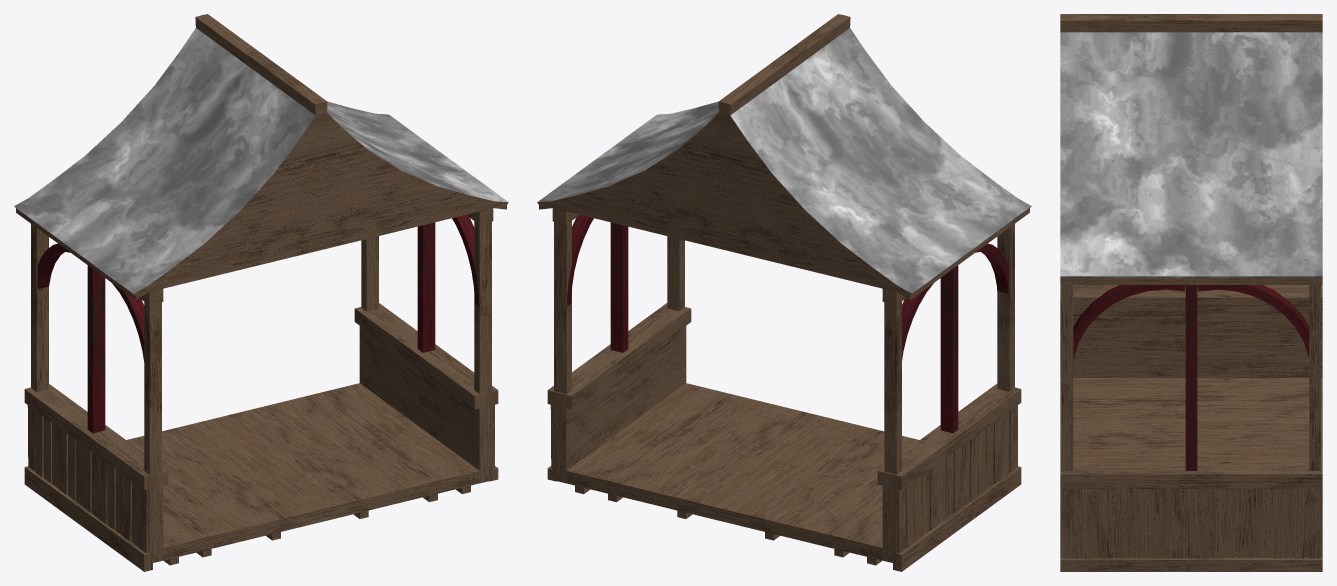
Rendered from SM_foot_bridge_02.fbx.
3 views of the same model, side by side, from view 1: azimuth 30°, elevation 25°; view 2: azimuth 150°, elevation 25°; view 3: azimuth 270°, elevation 25° (orthographic). The views are drawn at different scales.
Visible parts, largest first — view 1: SM_foot_bridge_02; view 2: SM_foot_bridge_02; view 3: SM_foot_bridge_02.
Part boxes in pixels (x1,y1,x2,y2): SM_foot_bridge_02: [14, 14, 508, 571]; SM_foot_bridge_02: [537, 14, 1031, 571]; SM_foot_bridge_02: [1060, 14, 1322, 571].
Size of the model in its own units: 542 by 300 by 589.
3 materials, 3 textured.
